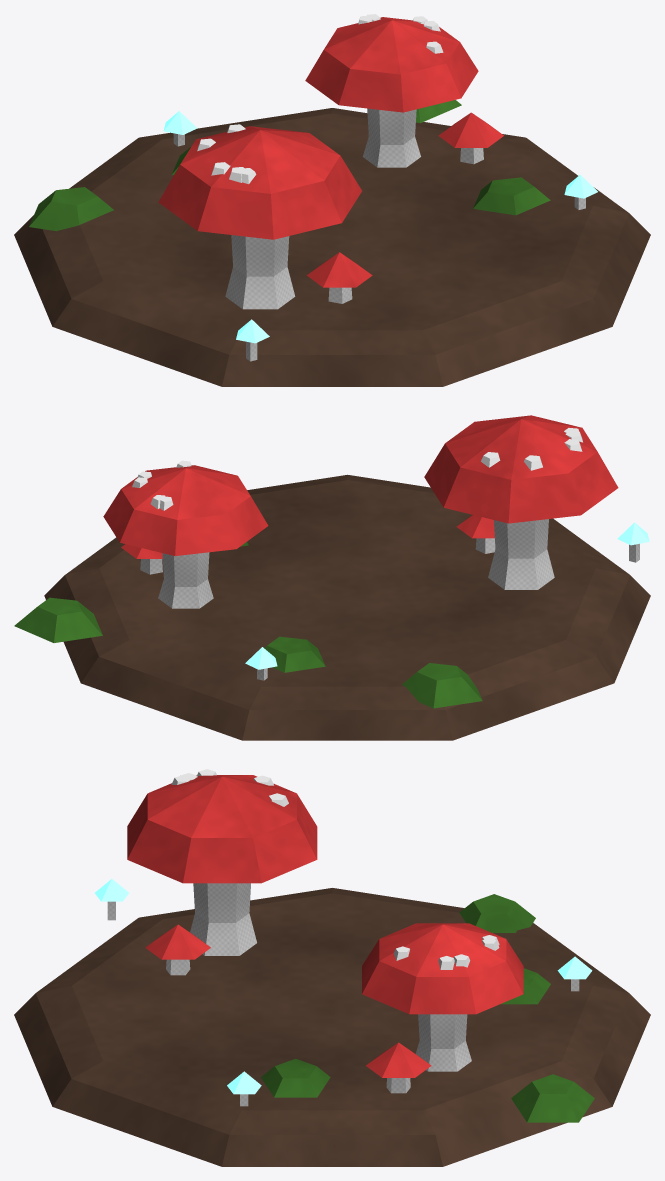
The model's file is mushrooms_2.glb.
3 views of the same model, one above another, from view 1: azimuth 30°, elevation 25°; view 2: azimuth 150°, elevation 25°; view 3: azimuth 270°, elevation 25° (orthographic). The views are drawn at different scales.
Parts seen in each view (by area): view 1: base_mesh; view 2: base_mesh; view 3: base_mesh.
Part boxes in pixels (<box>): base_mesh: <box>14,14,650,386</box>; base_mesh: <box>14,415,650,740</box>; base_mesh: <box>14,769,650,1166</box>.
Bounding box in the file's own units: 0.8535 × 0.3 × 0.8666.
6 materials, 4 textured.
